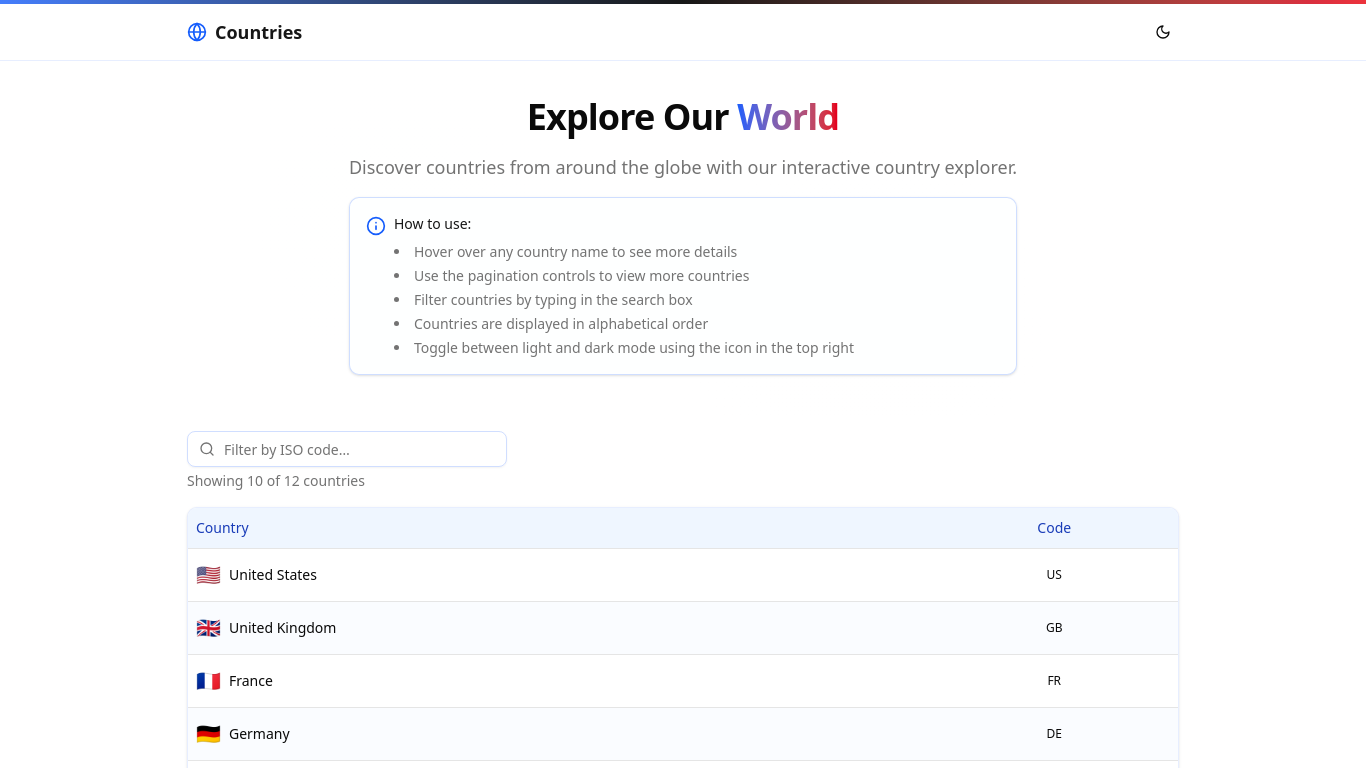
Test: CountriesPage › filters countries by code
Filter for 'US'
Type "US" into the field with placeholder "Filter by ISO code…" at (347, 449), box x1=187 y1=431 x2=507 y2=467
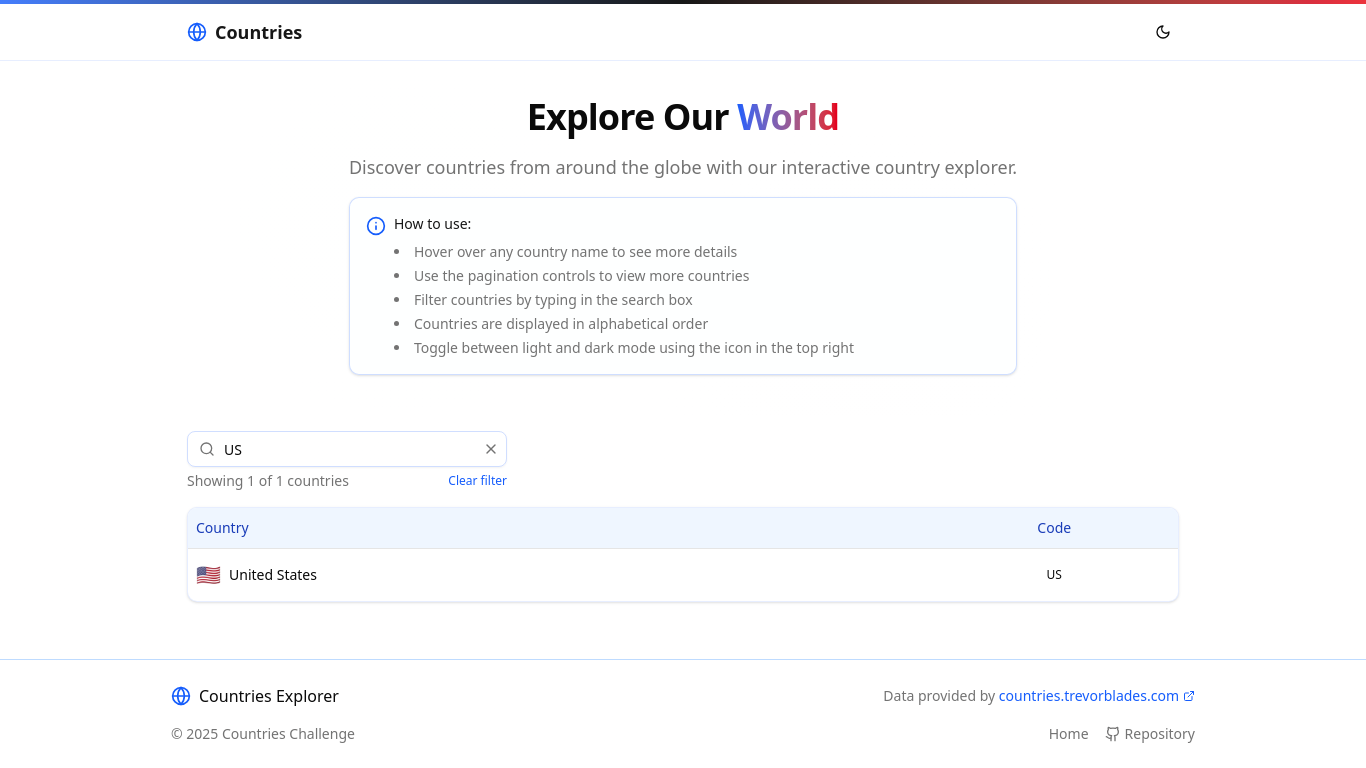
expect the text "United States" is shown: met, box x1=229 y1=564 x2=317 y2=584
expect the text "United Kingdom" is not shown: met
expect the text "Showing 1 of 1 countries" is shown: met, box x1=187 y1=471 x2=349 y2=491
